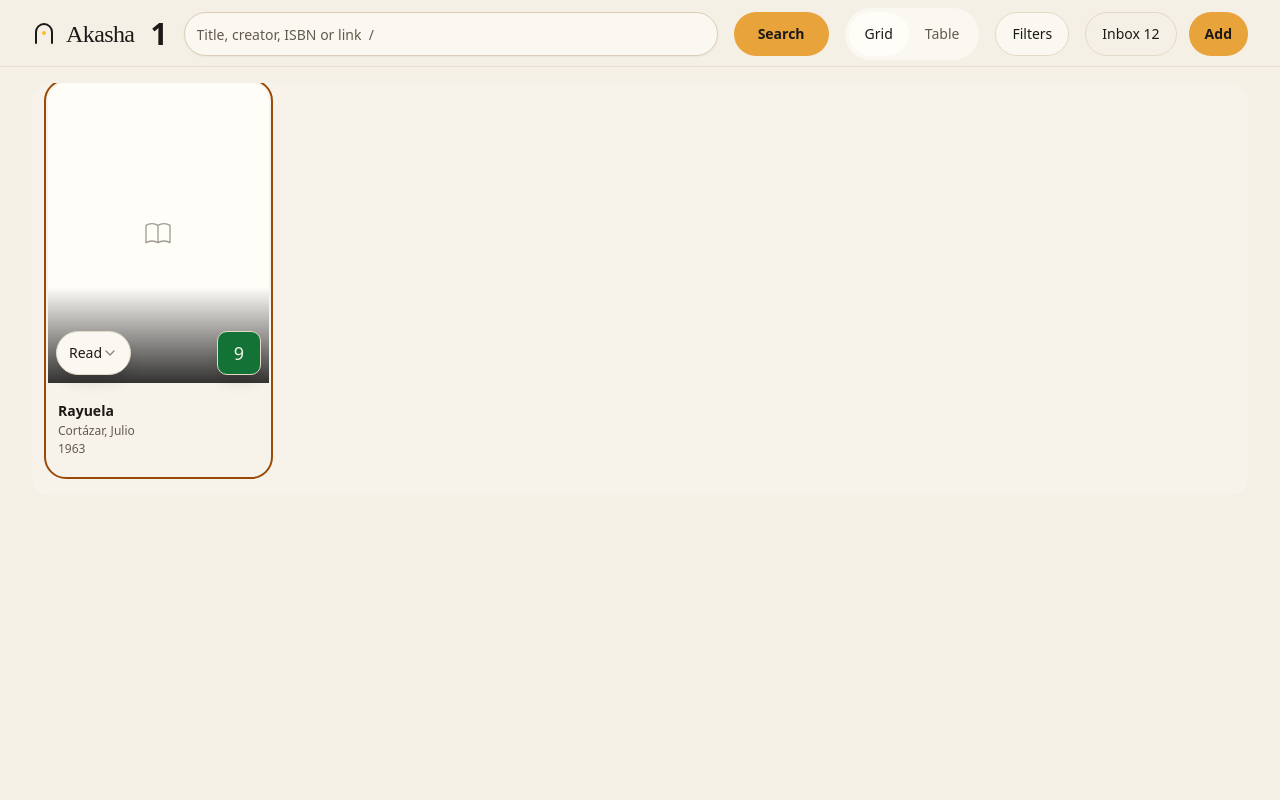
it: score shortcuts apply to a focused row but editable controls keep their keystrokes
Type keys "5"
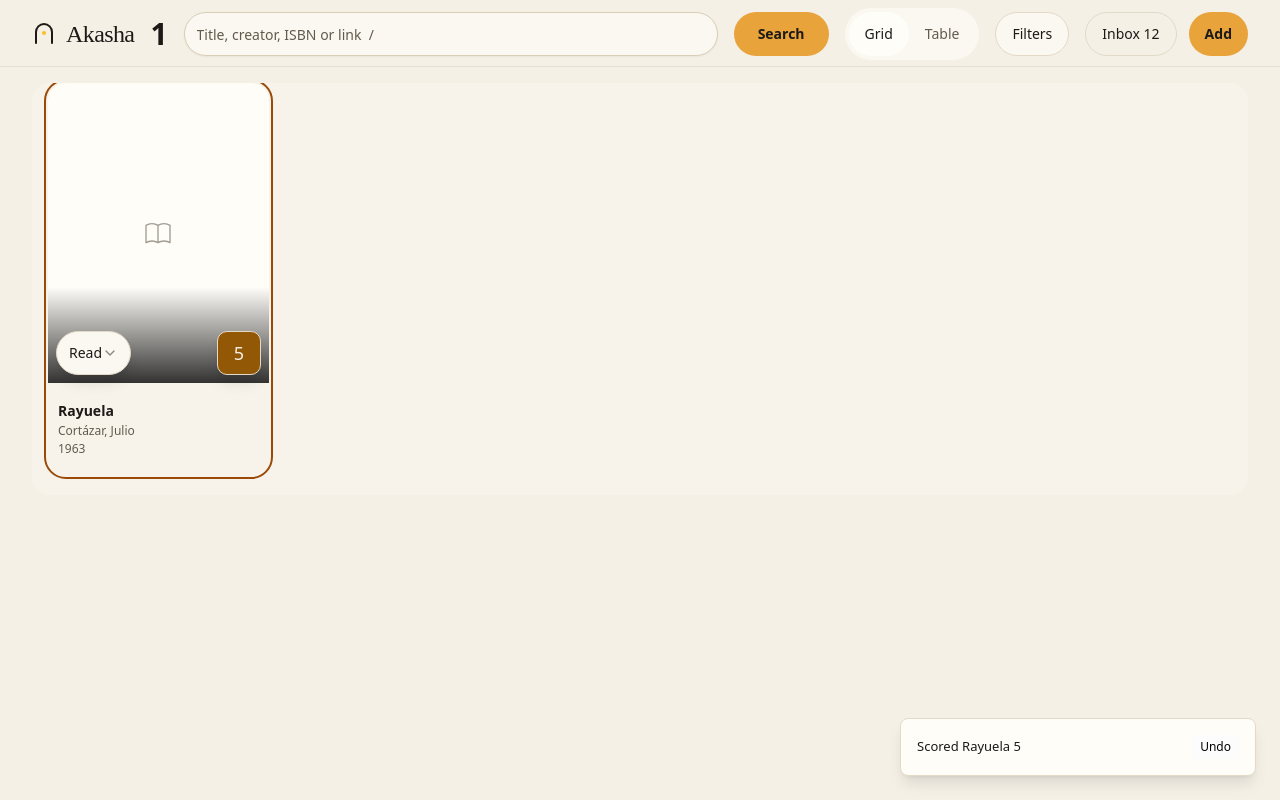
Check: the button named "score for rayuela: 5" is shown, box [217,331,261,375]
Click the search field named "Search your library, or add something new": click(451, 34) [184,12,718,56]
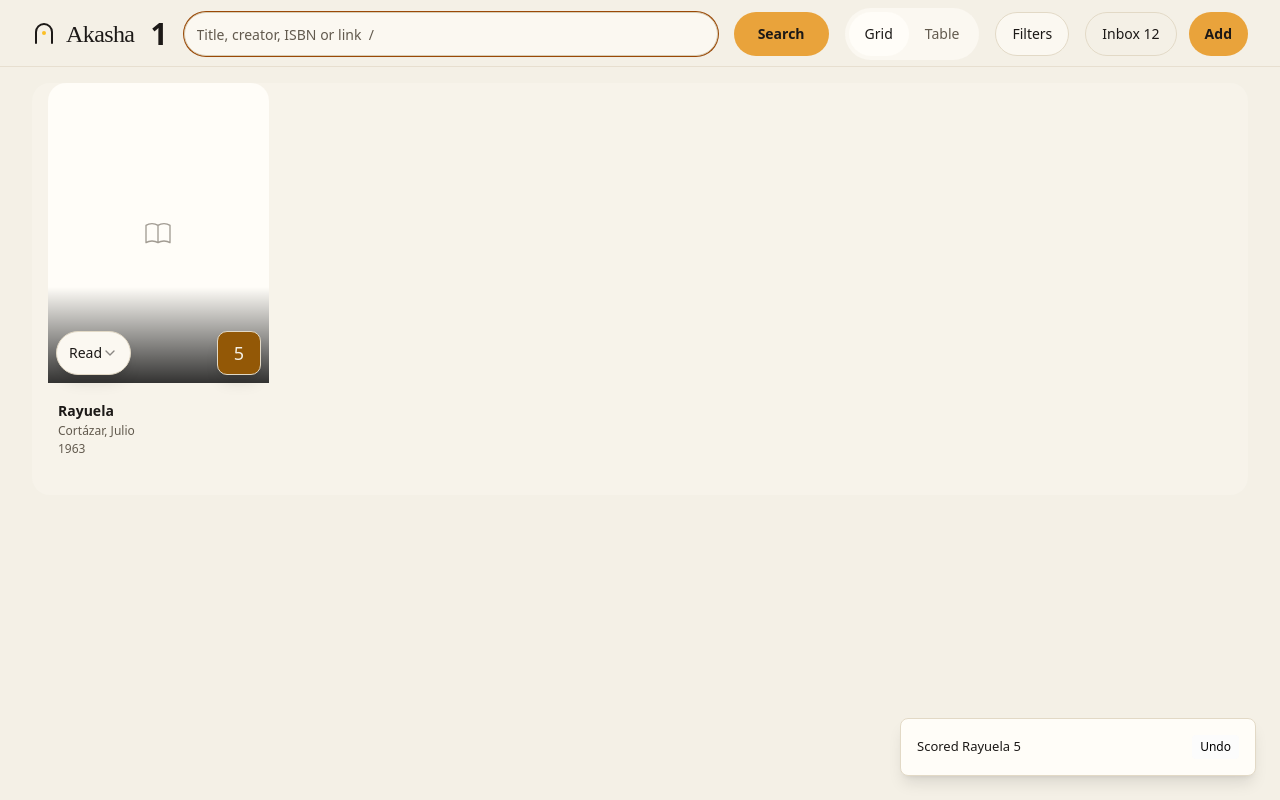
Type keys "a"
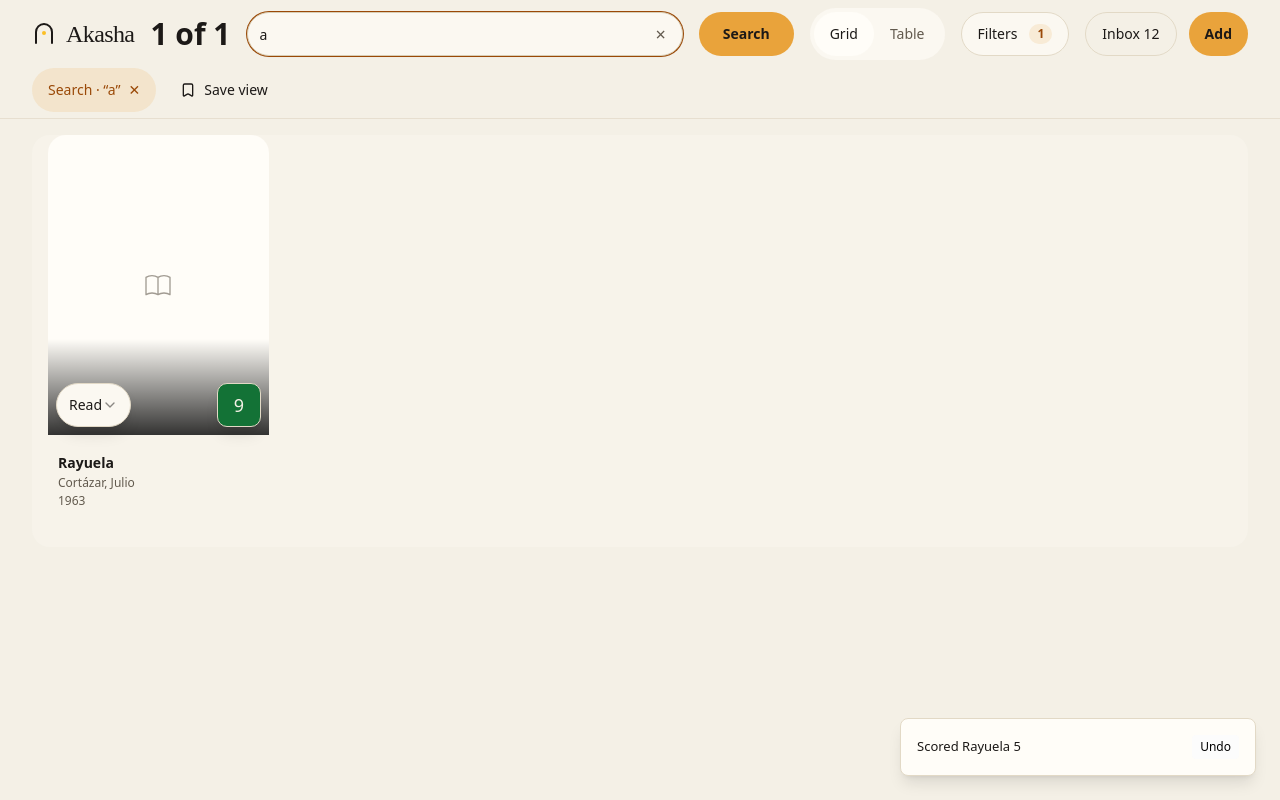
Check: the search field named "Search your library, or add something new" holds "a", box [246,12,683,56]
